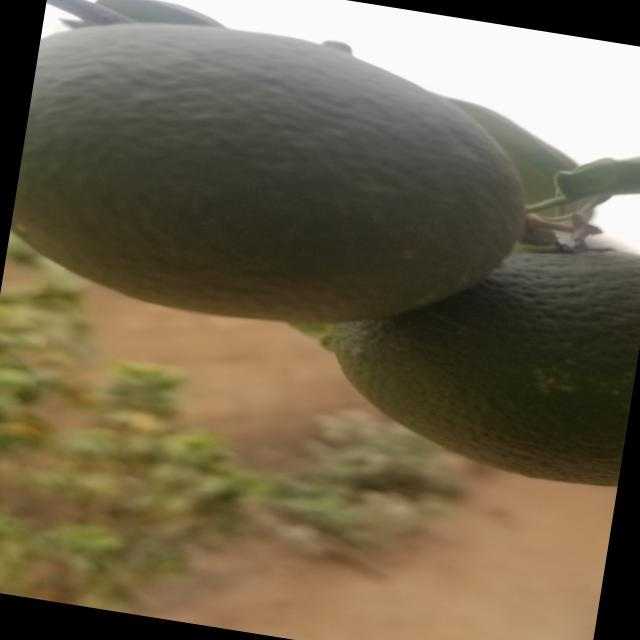agrume: (6, 0, 540, 353), (304, 206, 640, 488)
